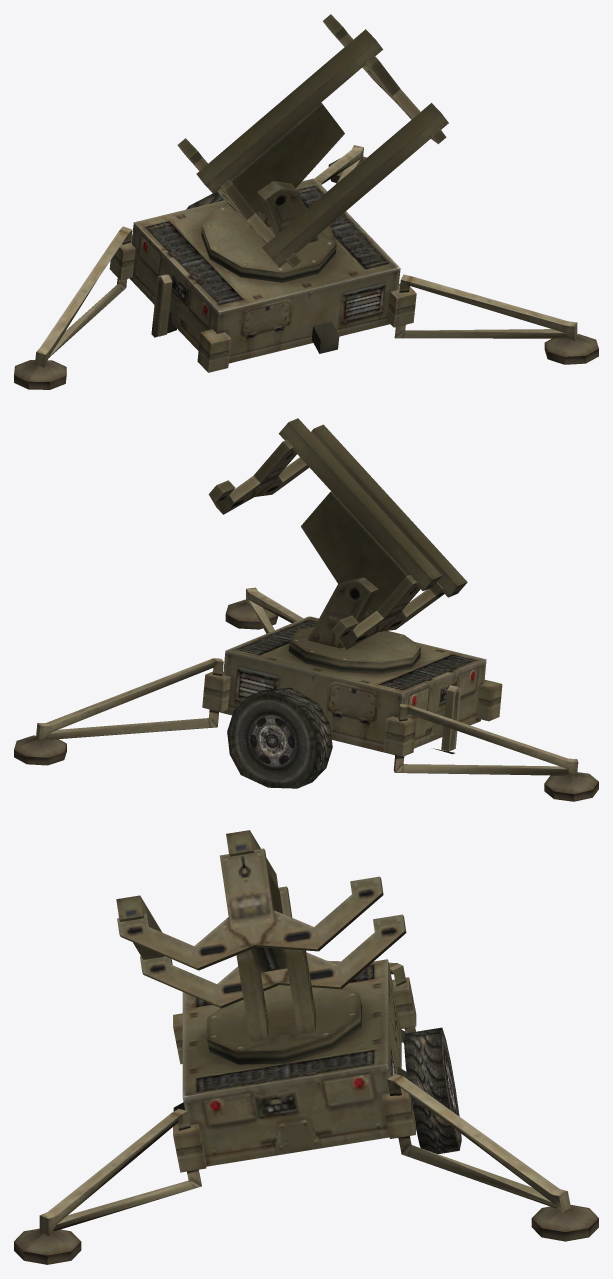
File: ExMslX.glb
3 renders of one model, top to bottom at view 1: azimuth 30°, elevation 25°; view 2: azimuth 150°, elevation 25°; view 3: azimuth 270°, elevation 25°, orthographic. The views are drawn at different scales.
Parts seen in each view (by area): view 1: _ExMslX; view 2: _ExMslX; view 3: _ExMslX.
Boxes of the visible parts, box(x1,y1,x2,y2) form: _ExMslX: box(14, 14, 598, 389); _ExMslX: box(14, 418, 598, 801); _ExMslX: box(14, 830, 598, 1264).
Bounding box in the file's own units: 5.11 × 3 × 4.53.
2 materials, 2 textured.
